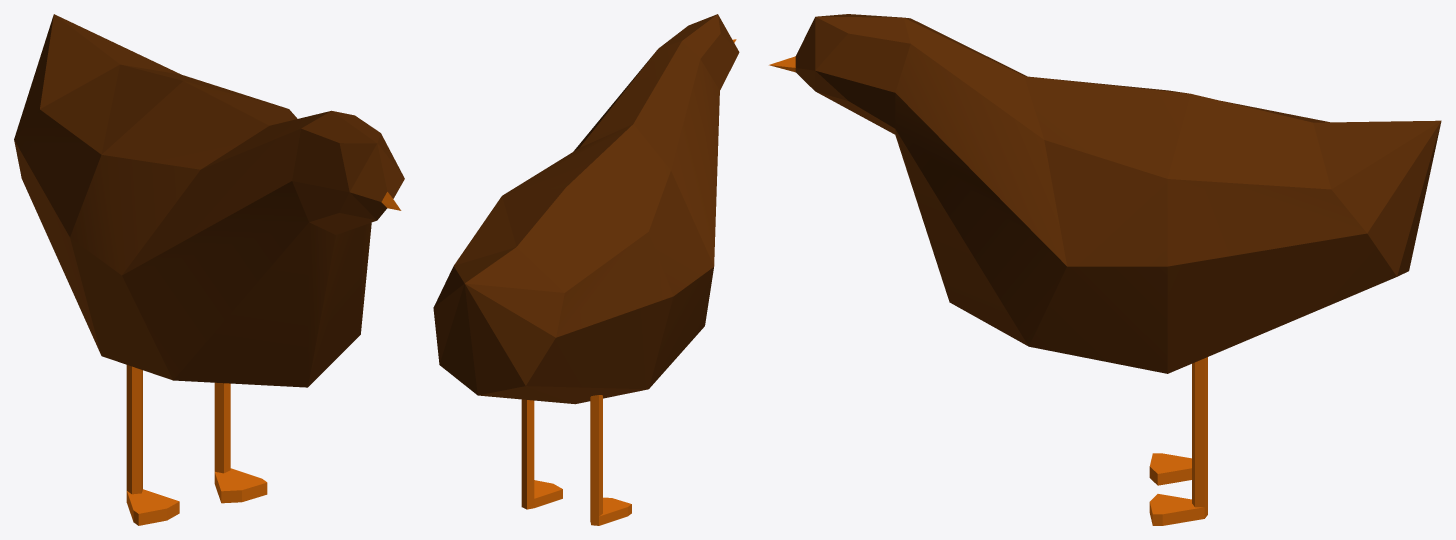
The model's file is chicken_export.fbx.
3 renders of one model, left to right at view 1: azimuth 30°, elevation 25°; view 2: azimuth 150°, elevation 25°; view 3: azimuth 270°, elevation 25°, orthographic. The views are drawn at different scales.
Visible parts, largest first — view 1: chicken1; view 2: chicken1; view 3: chicken1.
Part boxes in pixels (x1,y1,x2,y2): chicken1: (14,14,404,525); chicken1: (433,14,739,525); chicken1: (769,14,1441,525).
Bounding box in the file's own units: 1.34 × 2.52 × 3.21.
